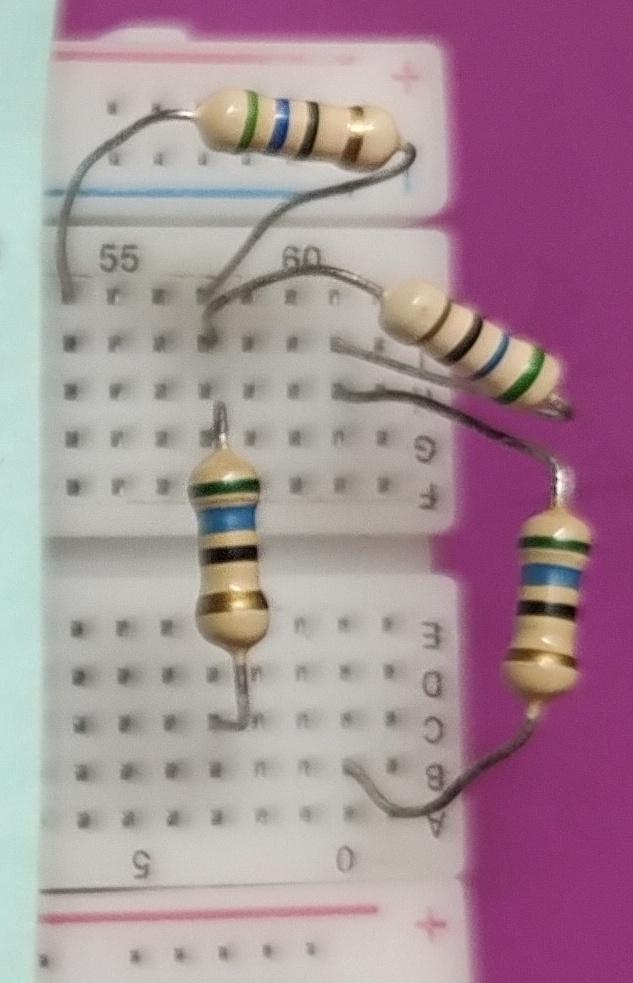resistor: (365, 257, 576, 425), (173, 65, 416, 186), (183, 435, 286, 663), (501, 487, 601, 711)
